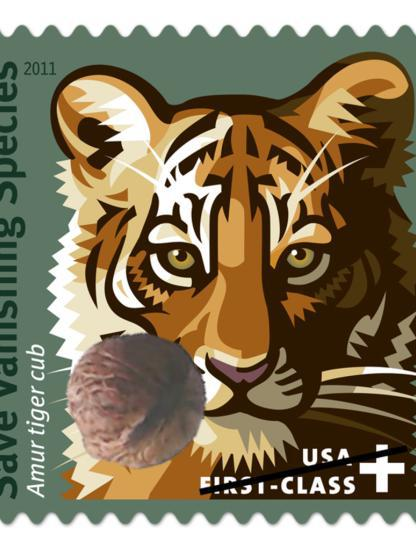Walnut: (64, 328, 208, 472)
